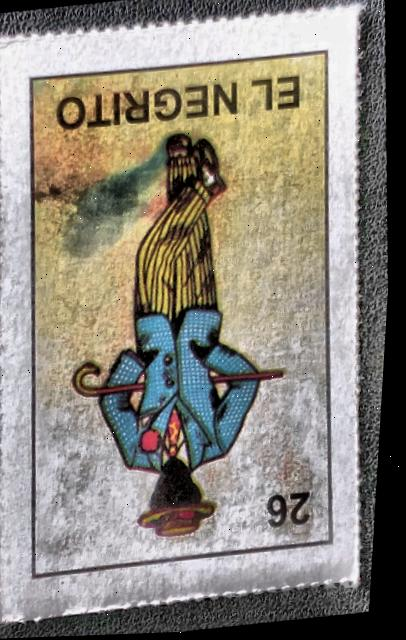El Negrito: (0, 16, 378, 606)
